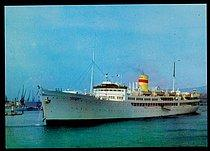Ship: (36, 57, 204, 131)
